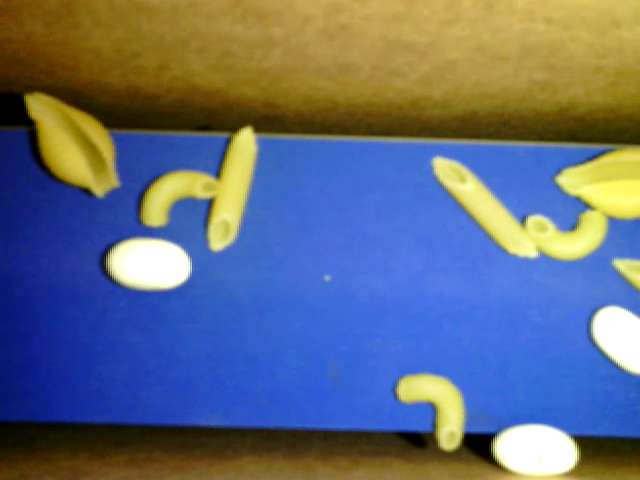elbow: (396, 373, 465, 449), (138, 169, 219, 227), (525, 210, 607, 261)
penne: (431, 154, 538, 258), (205, 126, 258, 252)
shell: (24, 91, 119, 198), (555, 148, 639, 219)
